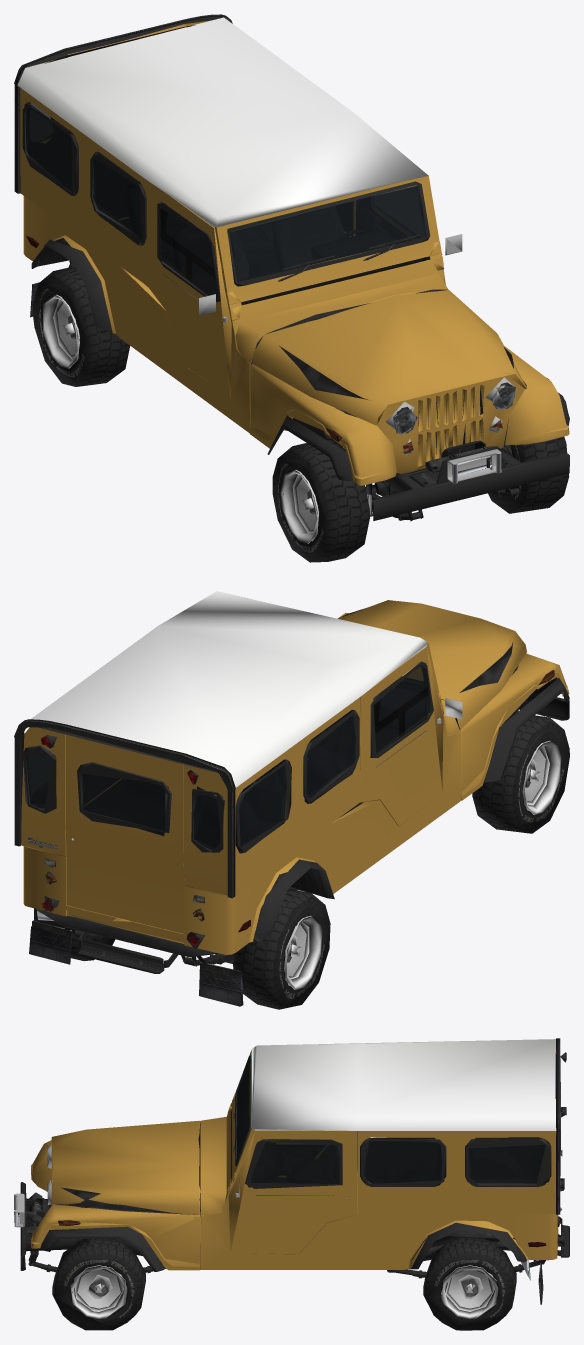
Rendered from jeep.glb.
3 renders of one model, top to bottom at view 1: azimuth 30°, elevation 25°; view 2: azimuth 150°, elevation 25°; view 3: azimuth 270°, elevation 25°, orthographic. The views are drawn at different scales.
Visible parts, largest first — view 1: EugenMK665_Body_EugenMK665_bodymat_0, EugenMK665_Bottom_UCB_BOTTOM_0, EugenMK665_WheelStock_FL_RO1a_Tire_0, EugenMK665_Body_Glass_UCB_Lights_and_Glass_Transperent_0, EugenMK665_interior_UCB_Interiors_2_0, EugenMK665_Headlights_UCB_Lights_and_Glass_0; view 2: EugenMK665_Body_EugenMK665_bodymat_0, EugenMK665_Bottom_UCB_BOTTOM_0, EugenMK665_WheelStock_FL_RO1a_Tire_0, EugenMK665_Body_Glass_UCB_Lights_and_Glass_Transperent_0, EugenMK665_interior_UCB_Interiors_2_0; view 3: EugenMK665_Body_EugenMK665_bodymat_0, EugenMK665_Bottom_UCB_BOTTOM_0, EugenMK665_WheelStock_FL_RO1a_Tire_0, EugenMK665_Body_Glass_UCB_Lights_and_Glass_Transperent_0, EugenMK665_interior_UCB_Interiors_2_0.
Part boxes in pixels (x1,y1,x2,y2): EugenMK665_Body_EugenMK665_bodymat_0: (20, 20, 569, 485); EugenMK665_Bottom_UCB_BOTTOM_0: (14, 14, 569, 521); EugenMK665_WheelStock_FL_RO1a_Tire_0: (33, 266, 569, 562); EugenMK665_Body_Glass_UCB_Lights_and_Glass_Transperent_0: (26, 102, 515, 434); EugenMK665_interior_UCB_Interiors_2_0: (24, 25, 430, 305); EugenMK665_Headlights_UCB_Lights_and_Glass_0: (393, 382, 515, 454); EugenMK665_Body_EugenMK665_bodymat_0: (21, 596, 569, 954); EugenMK665_Bottom_UCB_BOTTOM_0: (14, 591, 569, 1006); EugenMK665_WheelStock_FL_RO1a_Tire_0: (34, 712, 569, 1009); EugenMK665_Body_Glass_UCB_Lights_and_Glass_Transperent_0: (26, 665, 430, 948); EugenMK665_interior_UCB_Interiors_2_0: (31, 679, 426, 852); EugenMK665_Body_EugenMK665_bodymat_0: (31, 1050, 558, 1270); EugenMK665_Bottom_UCB_BOTTOM_0: (14, 1038, 569, 1304); EugenMK665_WheelStock_FL_RO1a_Tire_0: (52, 1237, 516, 1330); EugenMK665_Body_Glass_UCB_Lights_and_Glass_Transperent_0: (236, 1057, 562, 1211); EugenMK665_interior_UCB_Interiors_2_0: (231, 1071, 556, 1195).
Bounding box in the file's own units: 2.12 × 2.15 × 5.
Materials: 7 (6 with a texture image).
